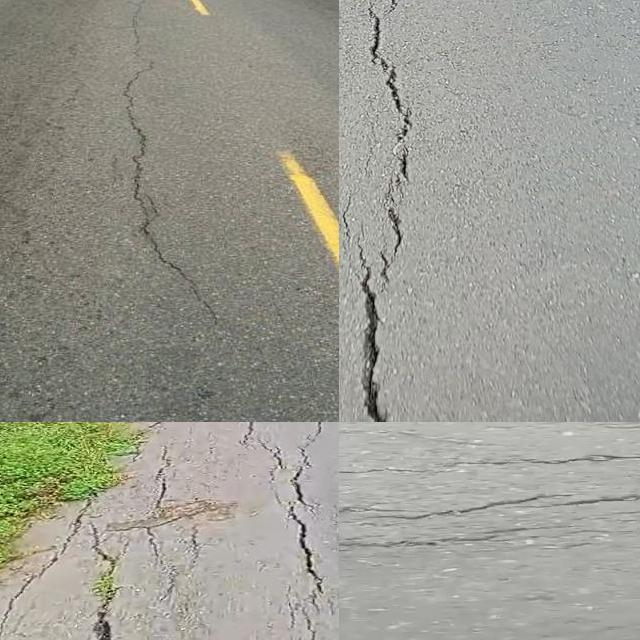Melintang: (339, 519, 615, 559)
Memanjang: (114, 0, 232, 337), (355, 0, 417, 422), (283, 422, 339, 614)
Pinggir: (0, 422, 203, 640)
